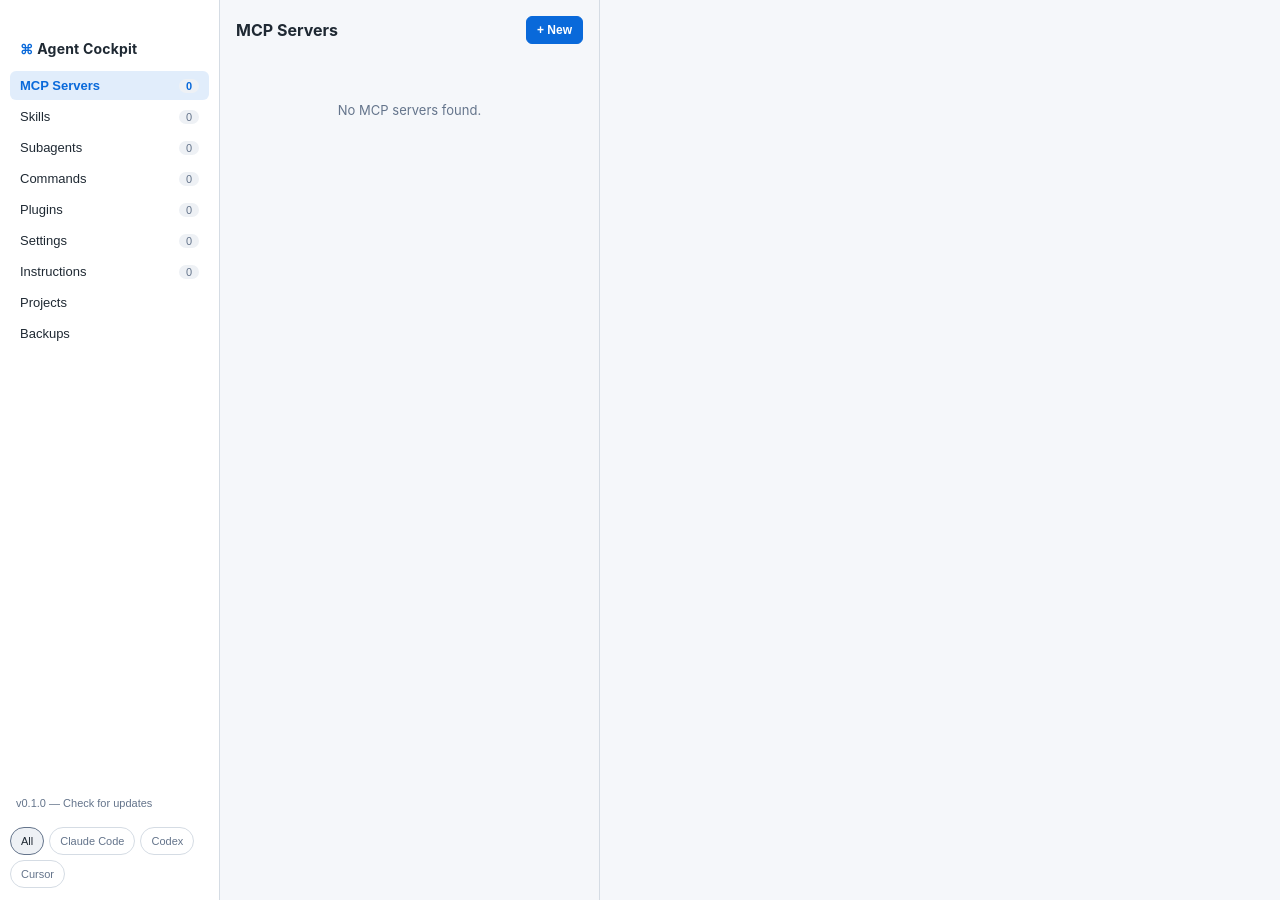
Test: App › checks for updates on demand and offers the releases page
The image size is (1280, 900).
What coordinates should you click on to do the following:
click the button "v0.1.0 — Check for updates"
I would click on:
 (110, 803)
Its box is [10,789,209,817].
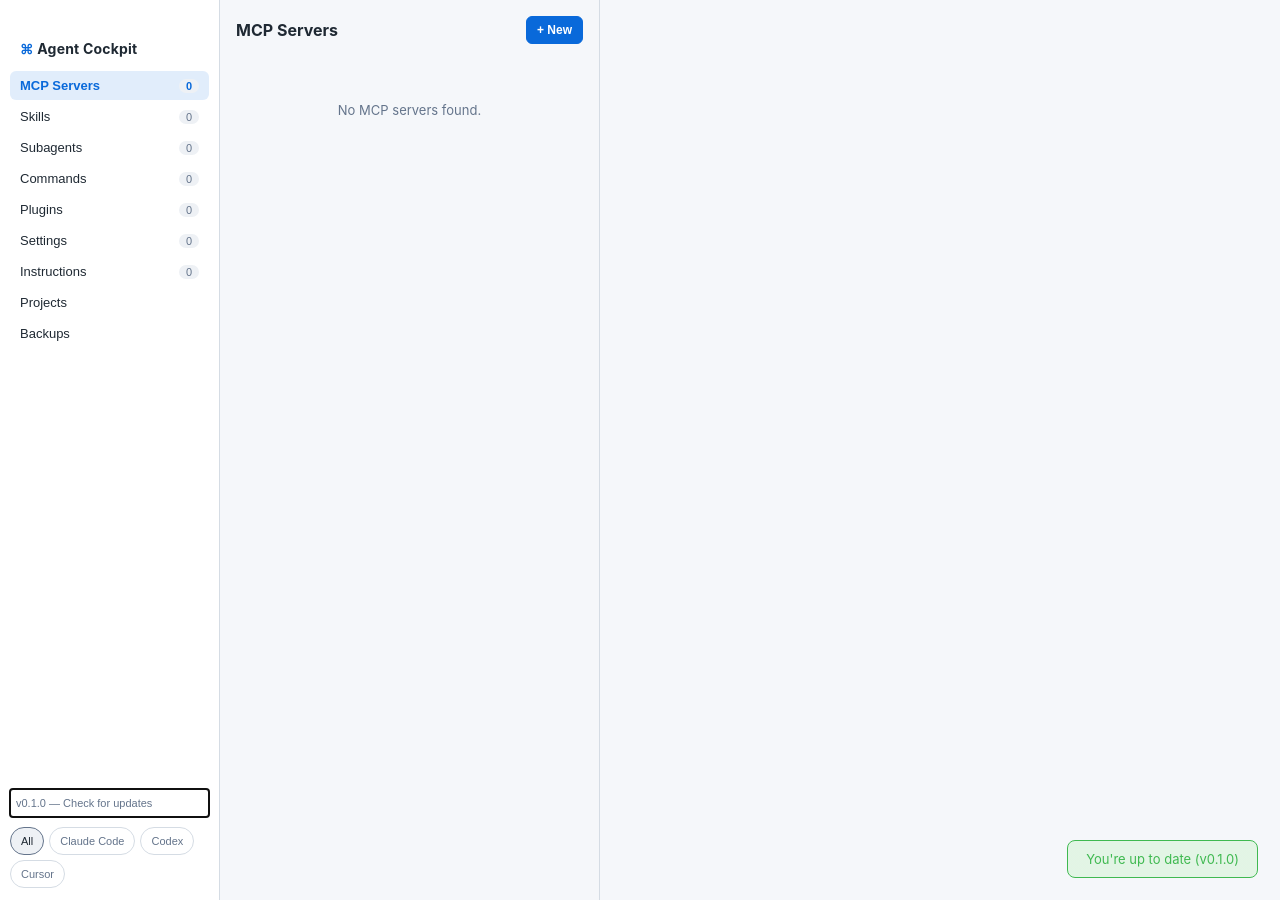
Now the message reads "You're up to date (v0.1.0)", box [1086,851,1239,867]
What coordinates should you click on to do the following:
click the button "v0.1.0 — Check for updates"
I would click on:
 (110, 803)
Its box is [10,789,209,817].
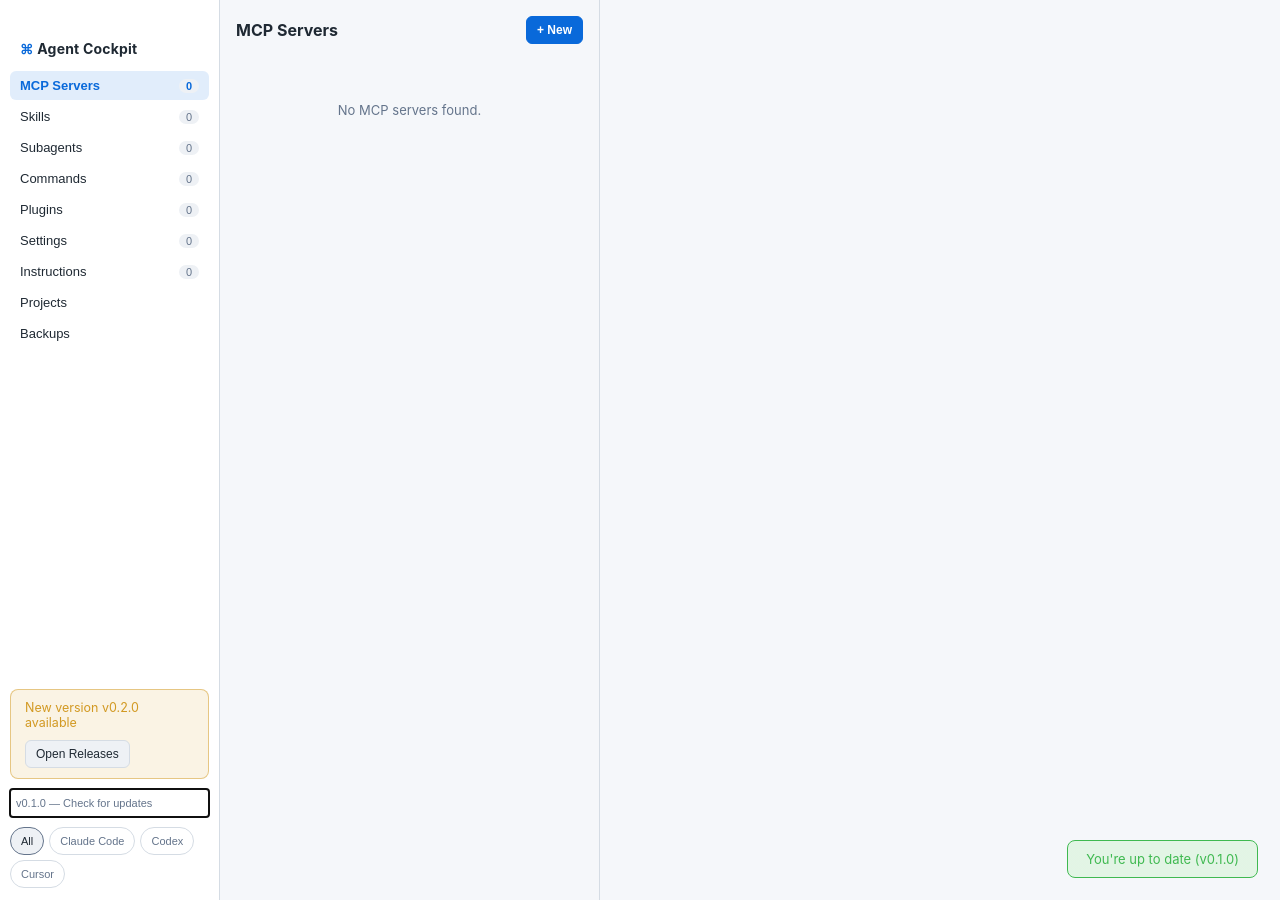
Now the text "New version v0.2.0 available" is shown, box [25,700,139,730]
What coordinates should you click on to do the following:
click the button "Open Releases"
I would click on:
 (77, 754)
Its box is [25,740,130,768].
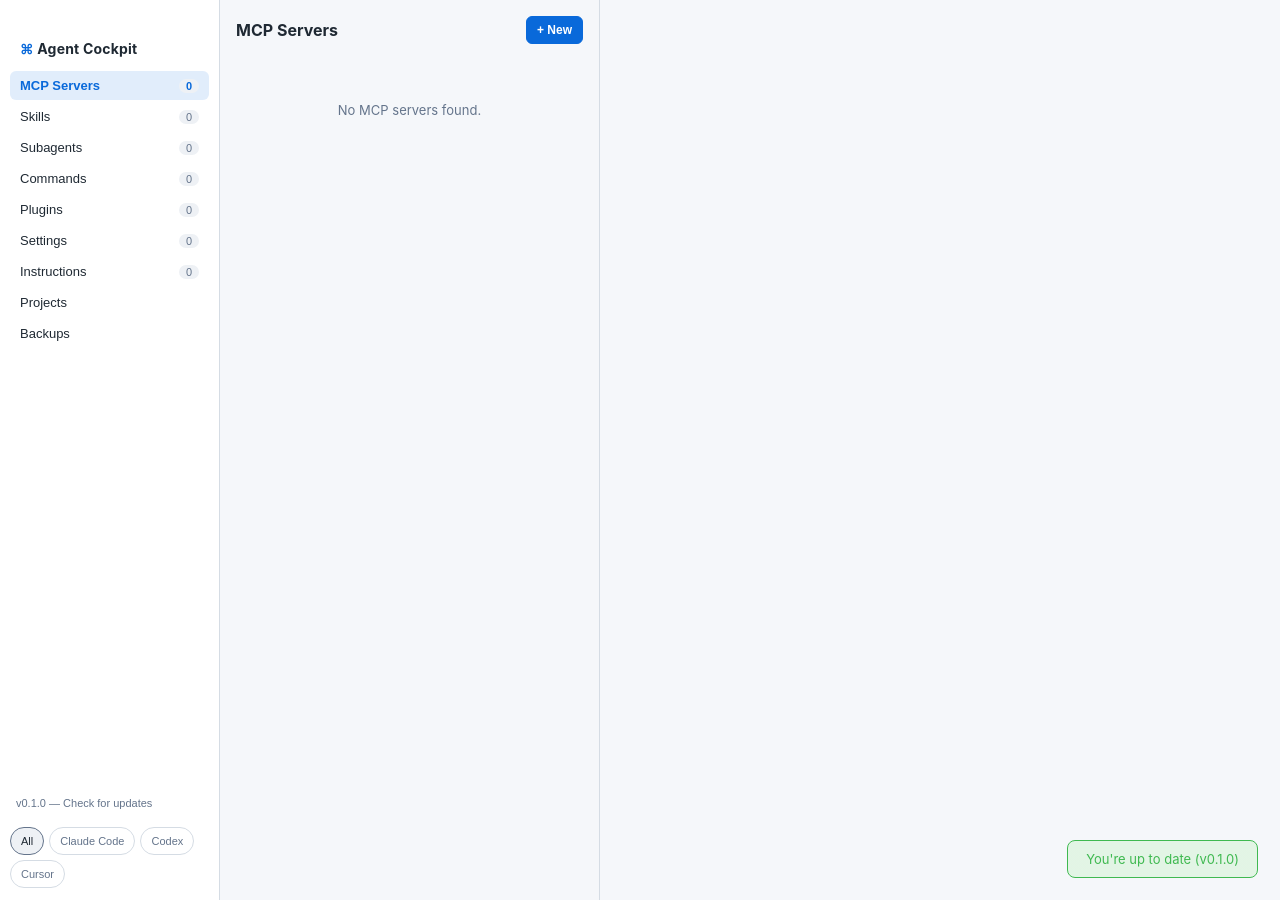
Now the text "New version v0.2.0 available" is gone
What coordinates should you click on to do the following:
click the button "v0.1.0 — Check for updates"
I would click on:
 (110, 803)
Its box is [10,789,209,817].
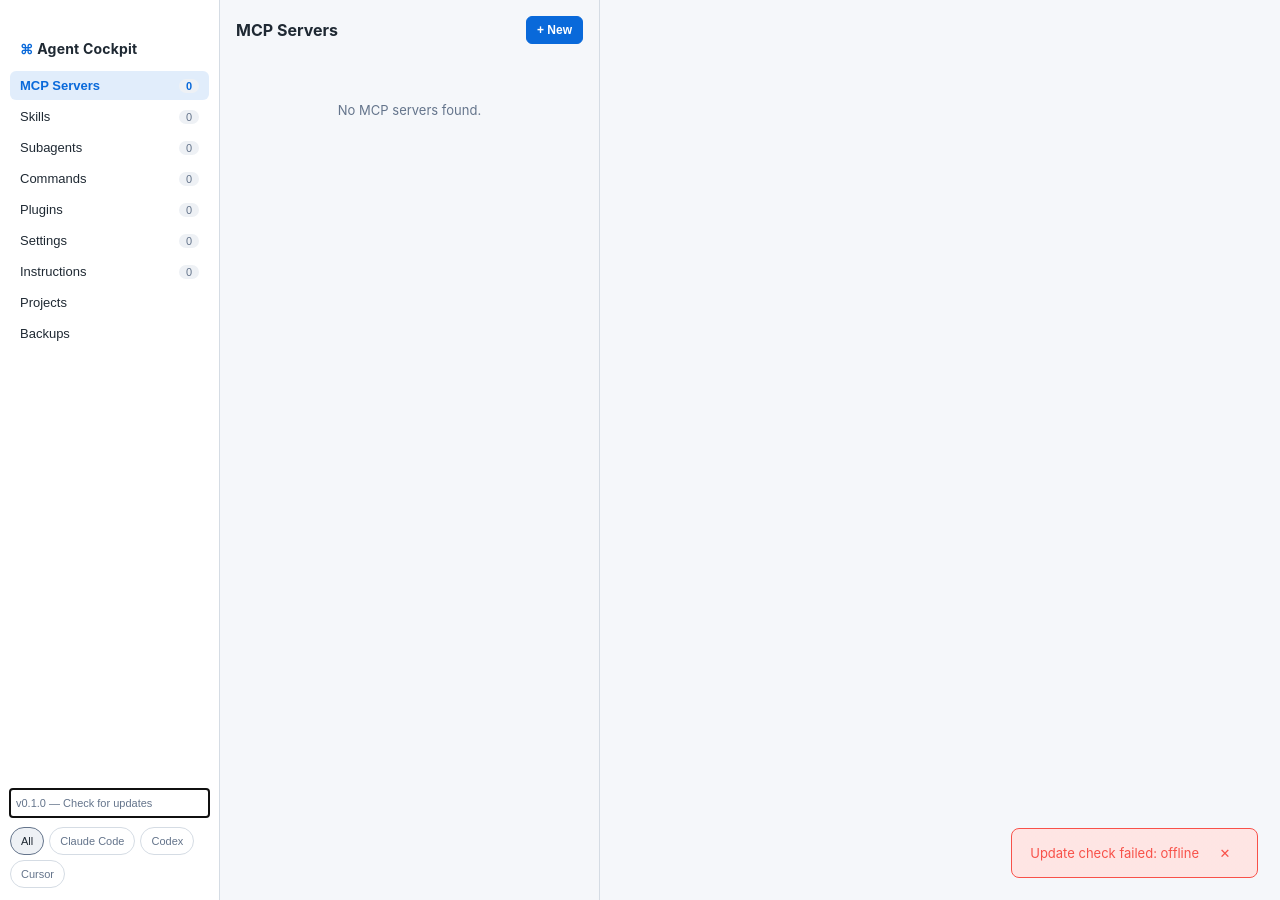
Now the message shows "Update check failed: offline", box [1030,845,1199,861]
